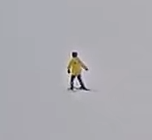skier: (57, 45, 103, 100)
